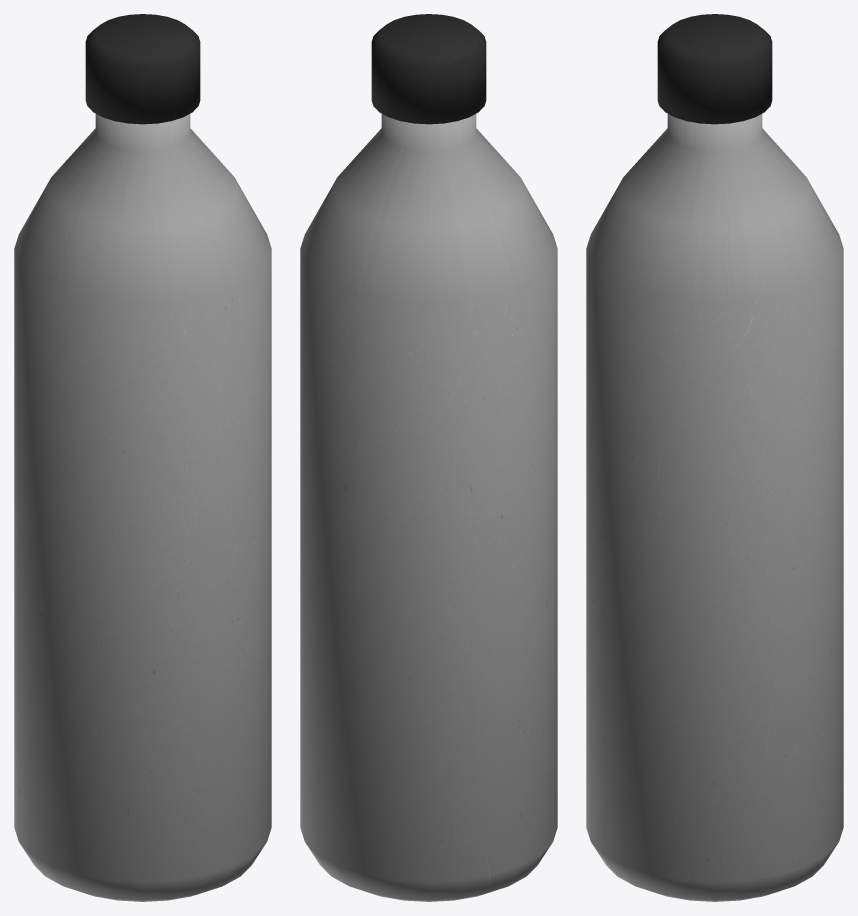
File: botol.glb
The picture shows the model from 3 angles, left to right: view 1: azimuth 30°, elevation 25°; view 2: azimuth 150°, elevation 25°; view 3: azimuth 270°, elevation 25°; orthographic projection.
Visible parts, largest first — view 1: Cylinder, Cylinder.001; view 2: Cylinder, Cylinder.001; view 3: Cylinder, Cylinder.001.
Boxes of the visible parts, bbox=[...] form: Cylinder: bbox=[14, 114, 271, 901]; Cylinder.001: bbox=[85, 14, 200, 124]; Cylinder: bbox=[300, 114, 557, 901]; Cylinder.001: bbox=[371, 14, 486, 124]; Cylinder: bbox=[586, 114, 843, 901]; Cylinder.001: bbox=[657, 14, 772, 124].
Bounding box in the file's own units: 0.06 × 0.2127 × 0.06.
2 materials, 2 textured.
